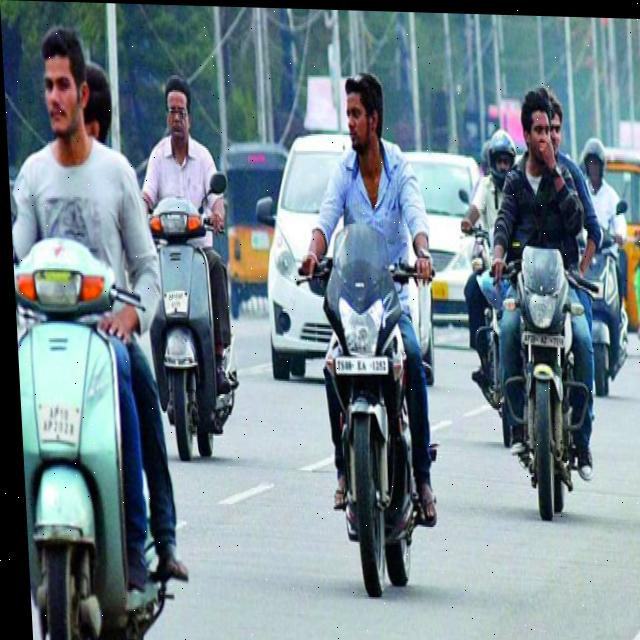without helmet: (33, 19, 93, 145), (343, 65, 387, 166), (157, 72, 196, 156), (518, 84, 556, 166)
